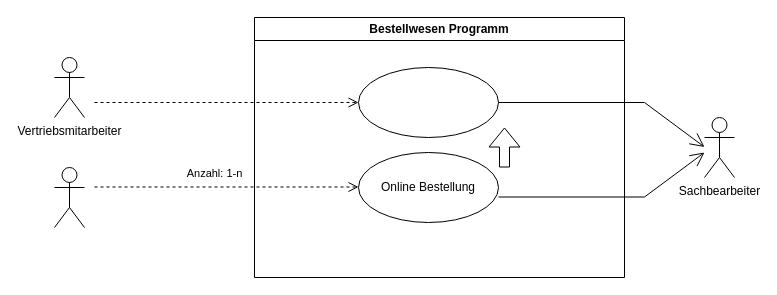
This 777x295 diagram has some shape labels left out. The centre of each missing label's shape, as x and y in pixels:
Kunde: the point at 69,197
Vertriebsbestellung: the point at 428,102
